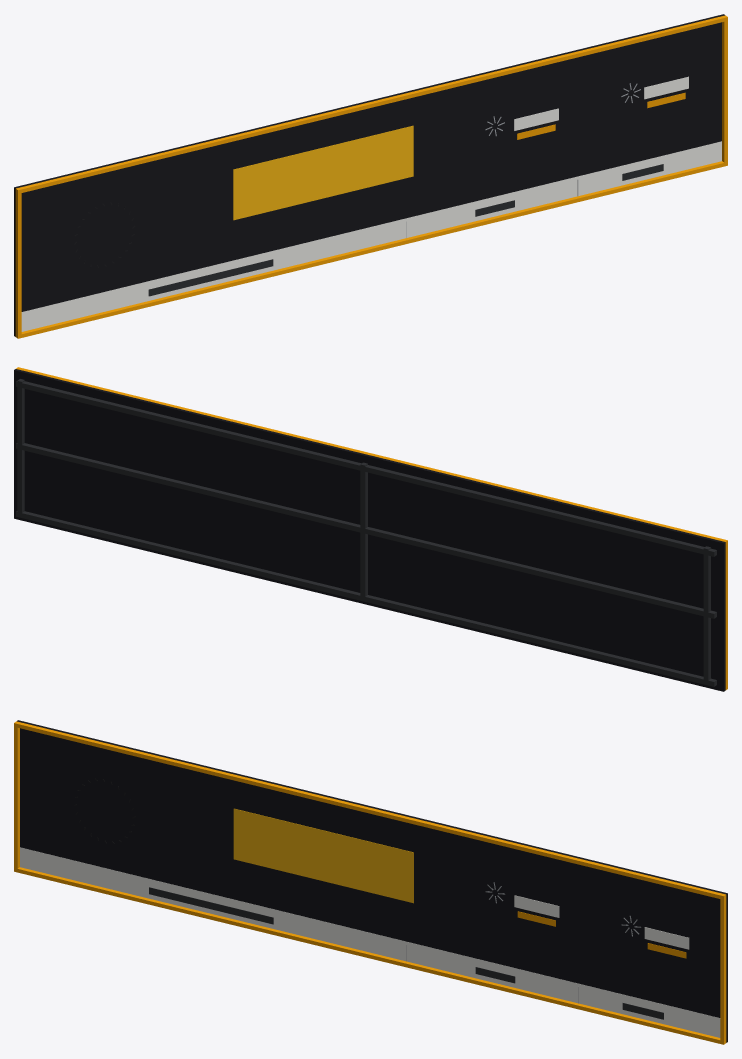
The model's file is Bảng hiệu alu dán decal chữ nổi 500 x 90.obj.
3 views of the same model, one above another, from view 1: azimuth 30°, elevation 25°; view 2: azimuth 150°, elevation 25°; view 3: azimuth 330°, elevation 25° (orthographic).
Visible parts, largest first — view 1: 01_Tam_nen_den, 08_Dai_thong_tin_trang, 03_CHU_LOP_66, Vien_tren, Vien_duoi, Vien_trai, 09_Dia_chi, Vien_phai, 07_Lop_xe_2, 06_Lop_xe_1; view 2: 01_Tam_nen_den, Khung_sau_tren, Khung_sau_duoi, Khung_sau_giua, Vien_tren, Khung_sau_dung_3, Khung_sau_dung_2, Khung_sau_dung_1; view 3: 01_Tam_nen_den, 08_Dai_thong_tin_trang, 03_CHU_LOP_66, Vien_tren, Vien_duoi, Vien_phai, 09_Dia_chi, Vien_trai, 06_Lop_xe_1, 07_Lop_xe_2.
Boxes of the visible parts, bbox=[...] form: 01_Tam_nen_den: bbox=[14, 14, 724, 336]; 08_Dai_thong_tin_trang: bbox=[21, 141, 721, 331]; 03_CHU_LOP_66: bbox=[233, 125, 413, 220]; Vien_tren: bbox=[15, 15, 727, 193]; Vien_duoi: bbox=[15, 161, 727, 338]; Vien_trai: bbox=[15, 189, 21, 338]; 09_Dia_chi: bbox=[148, 259, 273, 296]; Vien_phai: bbox=[722, 15, 727, 166]; 07_Lop_xe_2: bbox=[644, 76, 688, 99]; 06_Lop_xe_1: bbox=[514, 108, 558, 130]; 01_Tam_nen_den: bbox=[14, 369, 725, 691]; Khung_sau_tren: bbox=[16, 381, 716, 556]; Khung_sau_duoi: bbox=[16, 511, 716, 686]; Khung_sau_giua: bbox=[16, 443, 716, 618]; Vien_tren: bbox=[16, 367, 727, 544]; Khung_sau_dung_3: bbox=[17, 379, 24, 517]; Khung_sau_dung_2: bbox=[360, 462, 367, 600]; Khung_sau_dung_1: bbox=[703, 546, 710, 680]; 01_Tam_nen_den: bbox=[17, 720, 727, 1042]; 08_Dai_thong_tin_trang: bbox=[20, 847, 720, 1037]; 03_CHU_LOP_66: bbox=[233, 808, 413, 903]; Vien_tren: bbox=[14, 721, 726, 899]; Vien_duoi: bbox=[14, 867, 726, 1044]; Vien_phai: bbox=[720, 894, 726, 1043]; 09_Dia_chi: bbox=[149, 887, 273, 924]; Vien_trai: bbox=[14, 722, 19, 872]; 06_Lop_xe_1: bbox=[514, 895, 559, 917]; 07_Lop_xe_2: bbox=[644, 927, 689, 949].
Bounding box in the file's own units: 6 × 1.2 × 0.115.
